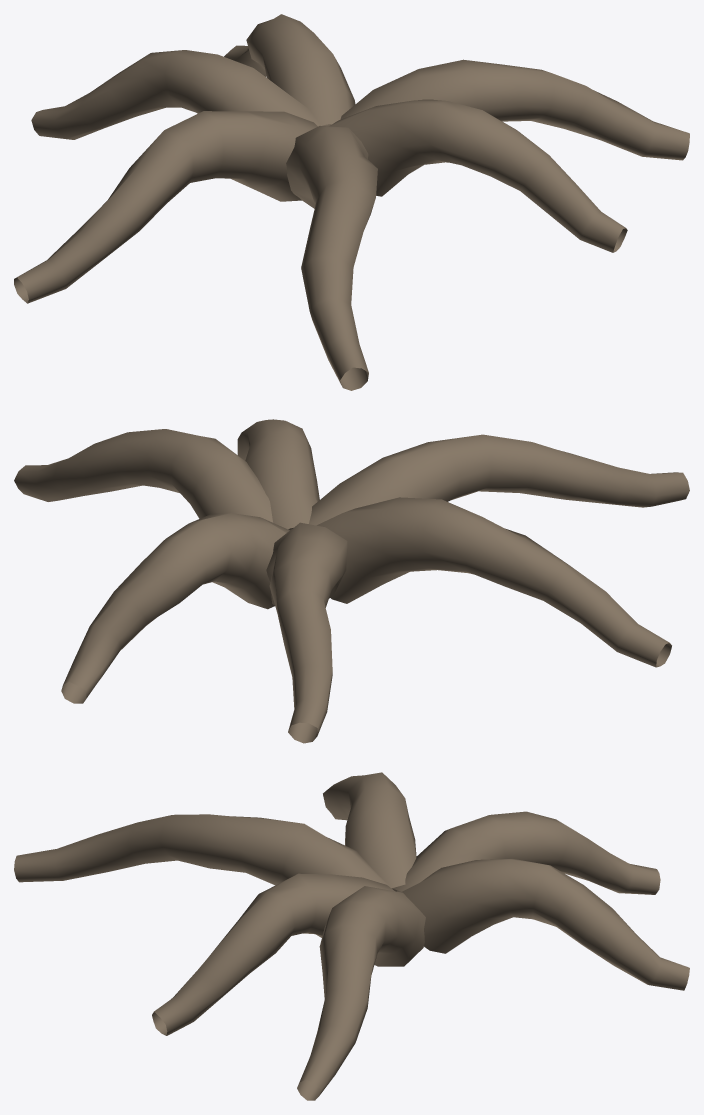
File: ENV_PC_Roots_B.fbx
The picture shows the model from 3 angles, top to bottom: view 1: azimuth 30°, elevation 25°; view 2: azimuth 150°, elevation 25°; view 3: azimuth 270°, elevation 25°; orthographic projection. The views are drawn at different scales.
Visible parts, largest first — view 1: ENV_PC_Roots_B_LOD0; view 2: ENV_PC_Roots_B_LOD0; view 3: ENV_PC_Roots_B_LOD0.
Part boxes in pixels (x1,y1,x2,y2): ENV_PC_Roots_B_LOD0: [14, 14, 689, 390]; ENV_PC_Roots_B_LOD0: [14, 419, 689, 743]; ENV_PC_Roots_B_LOD0: [14, 772, 689, 1100].
Size of what is drawn, in the model's own units: 10.65 by 1.94 by 10.19.
